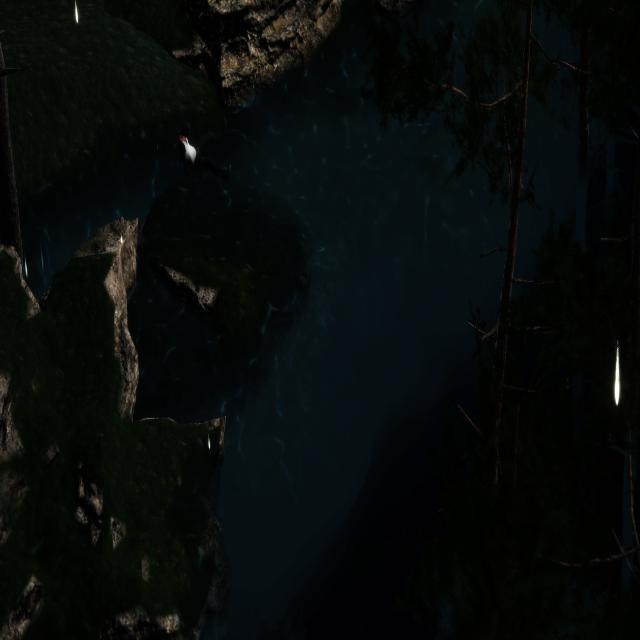Human: (173, 114, 237, 190)
